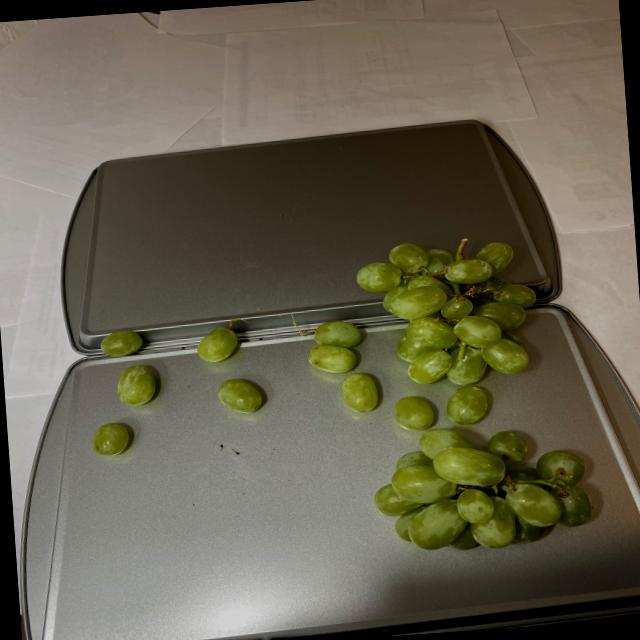grapes: (304, 229, 598, 557), (86, 318, 268, 448)
